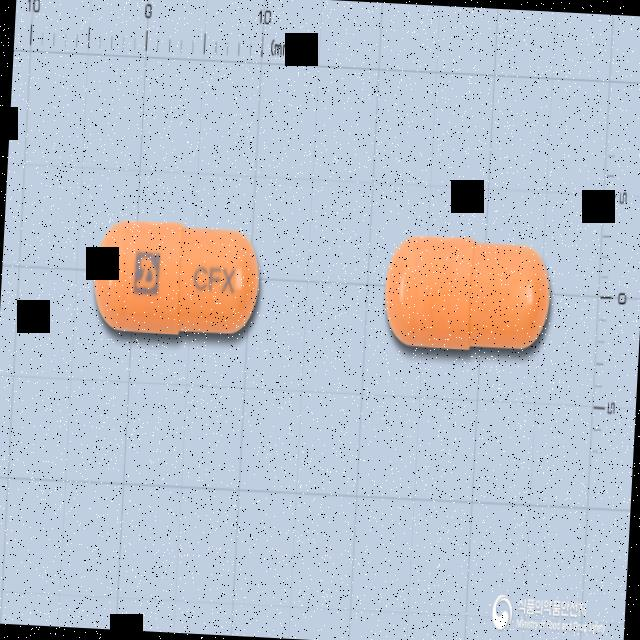Dongkoo Cefixime Hydrate Cap: (91, 218, 263, 338)
